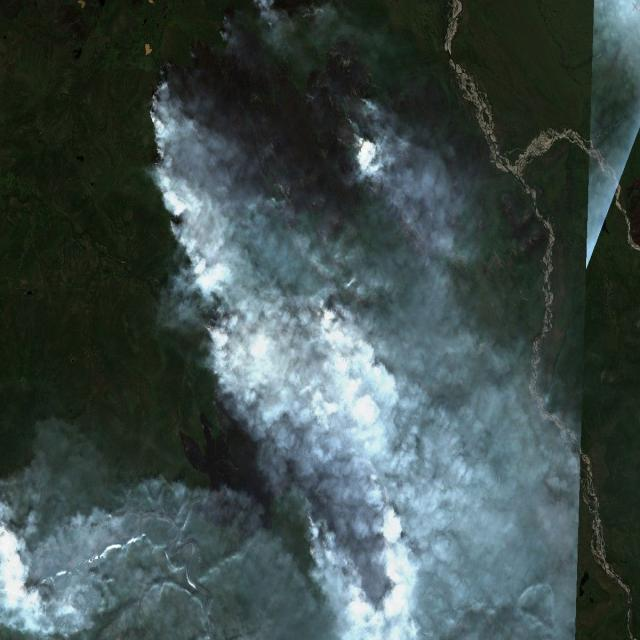fire: (198, 290, 409, 628), (144, 61, 238, 274), (327, 104, 376, 174)
